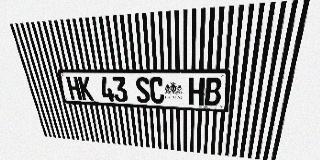3: (112, 77, 128, 102)
4: (99, 77, 115, 102)
B: (204, 78, 222, 106)
C: (149, 77, 165, 104)
H: (188, 77, 205, 106), (66, 76, 82, 100)
K: (77, 76, 94, 101)
S: (135, 77, 150, 103)
